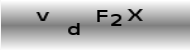2: (109, 13, 122, 26)
F: (95, 8, 108, 23)
X: (127, 7, 143, 22)
d: (66, 22, 80, 35)
v: (36, 11, 50, 22)
